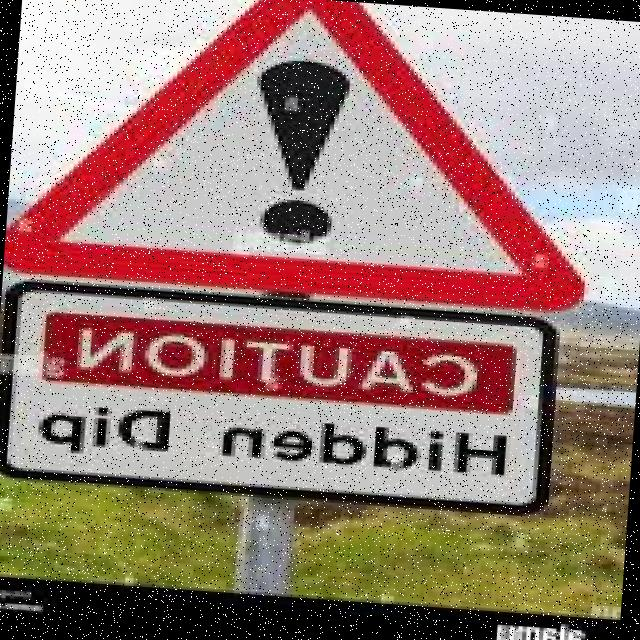warning: (2, 0, 612, 319)
